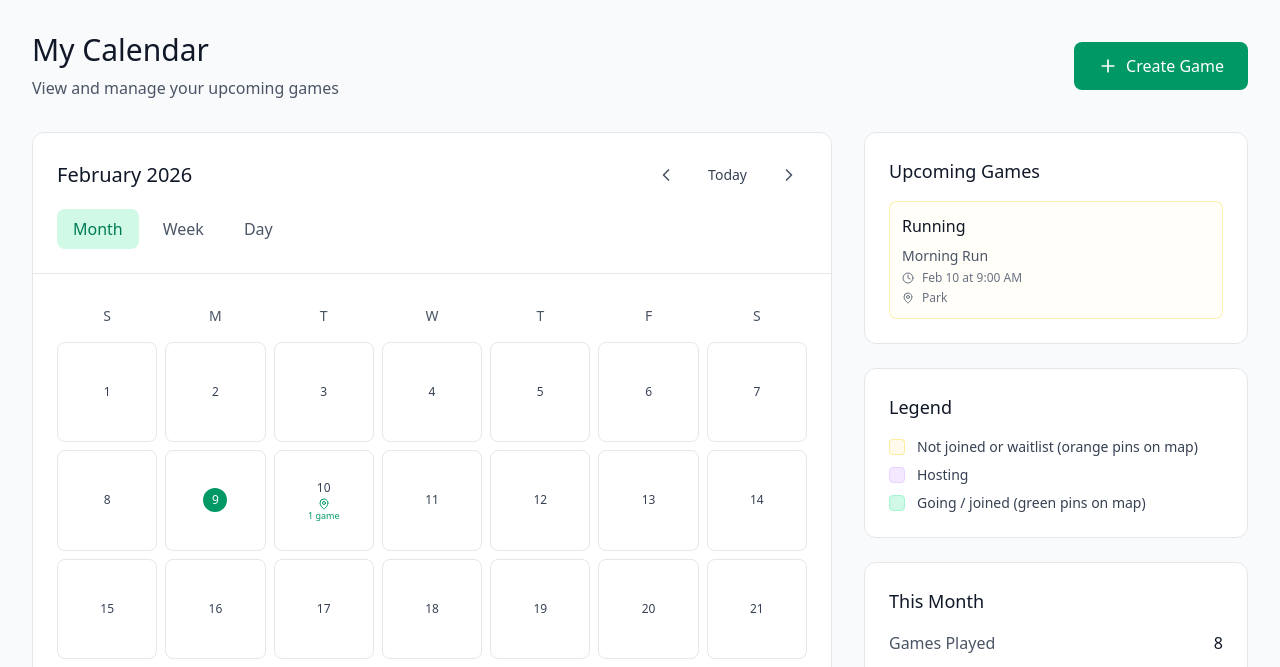
Scenario: CalendarView › on mobile, shows single-letter weekday headers and opens day overlay with games
Expected: the text "M" is shown, [209, 306, 222, 325]
Expected: the text "F" is shown, [645, 306, 652, 325]
Click the button "10 1 game": {"x": 324, "y": 500} [274, 450, 374, 551]
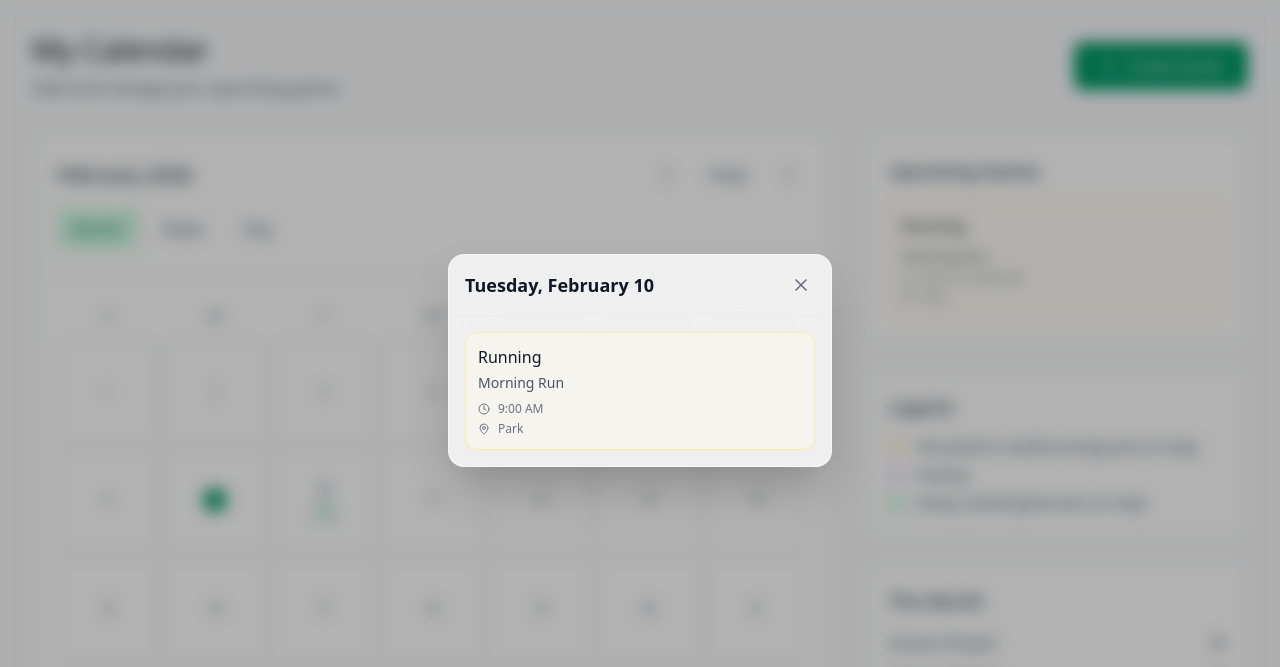
Expected: the heading "Tuesday, February 10" is shown, [465, 270, 654, 298]
Expected: the element "Tuesday, February 10 Running Morning Run 9:00 AM Park" is shown, [448, 254, 832, 466]
Expected: the text "Morning Run" is shown, [478, 372, 564, 392]
